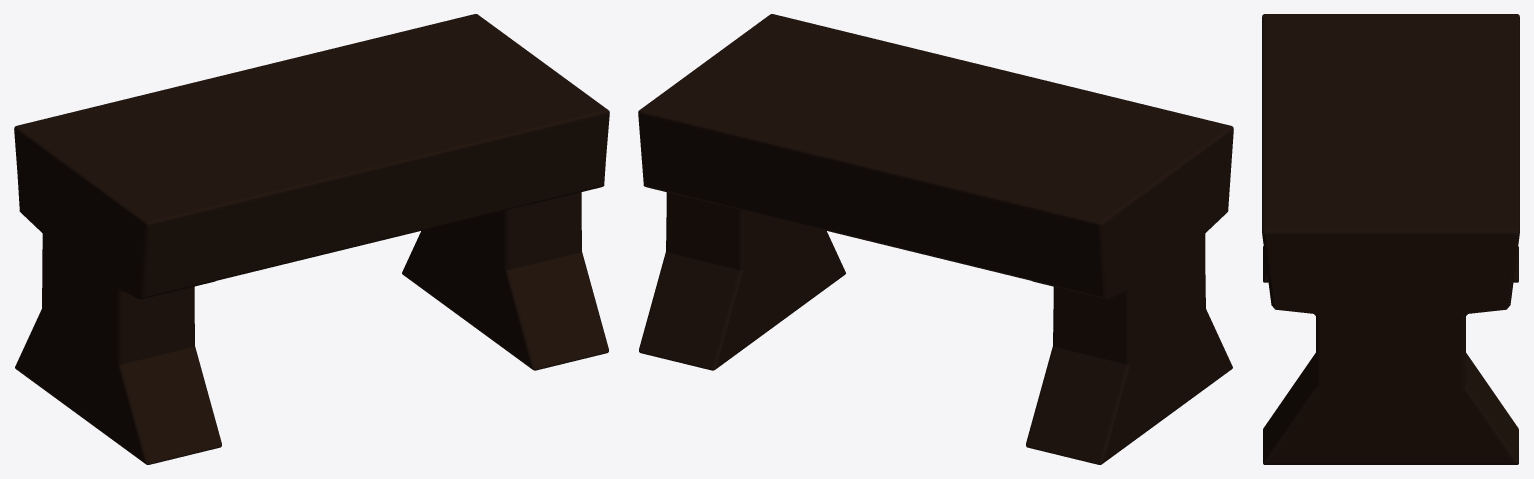
File: LDisplayTable001.FBX
The picture shows the model from 3 angles, left to right: view 1: azimuth 30°, elevation 25°; view 2: azimuth 150°, elevation 25°; view 3: azimuth 270°, elevation 25°; orthographic projection. The views are drawn at different scales.
Visible parts, largest first — view 1: LDisplayTable; view 2: LDisplayTable; view 3: LDisplayTable.
Part boxes in pixels (<box>): LDisplayTable: <box>14,14,609,464</box>; LDisplayTable: <box>638,14,1233,464</box>; LDisplayTable: <box>1262,14,1519,464</box>.
Bounding box in the file's own units: 30 × 15 × 14.95.
